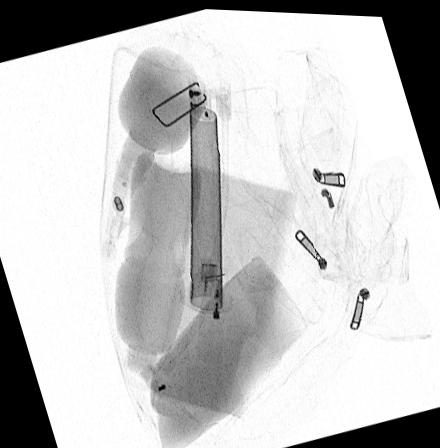Lighter: (198, 260, 227, 319)
